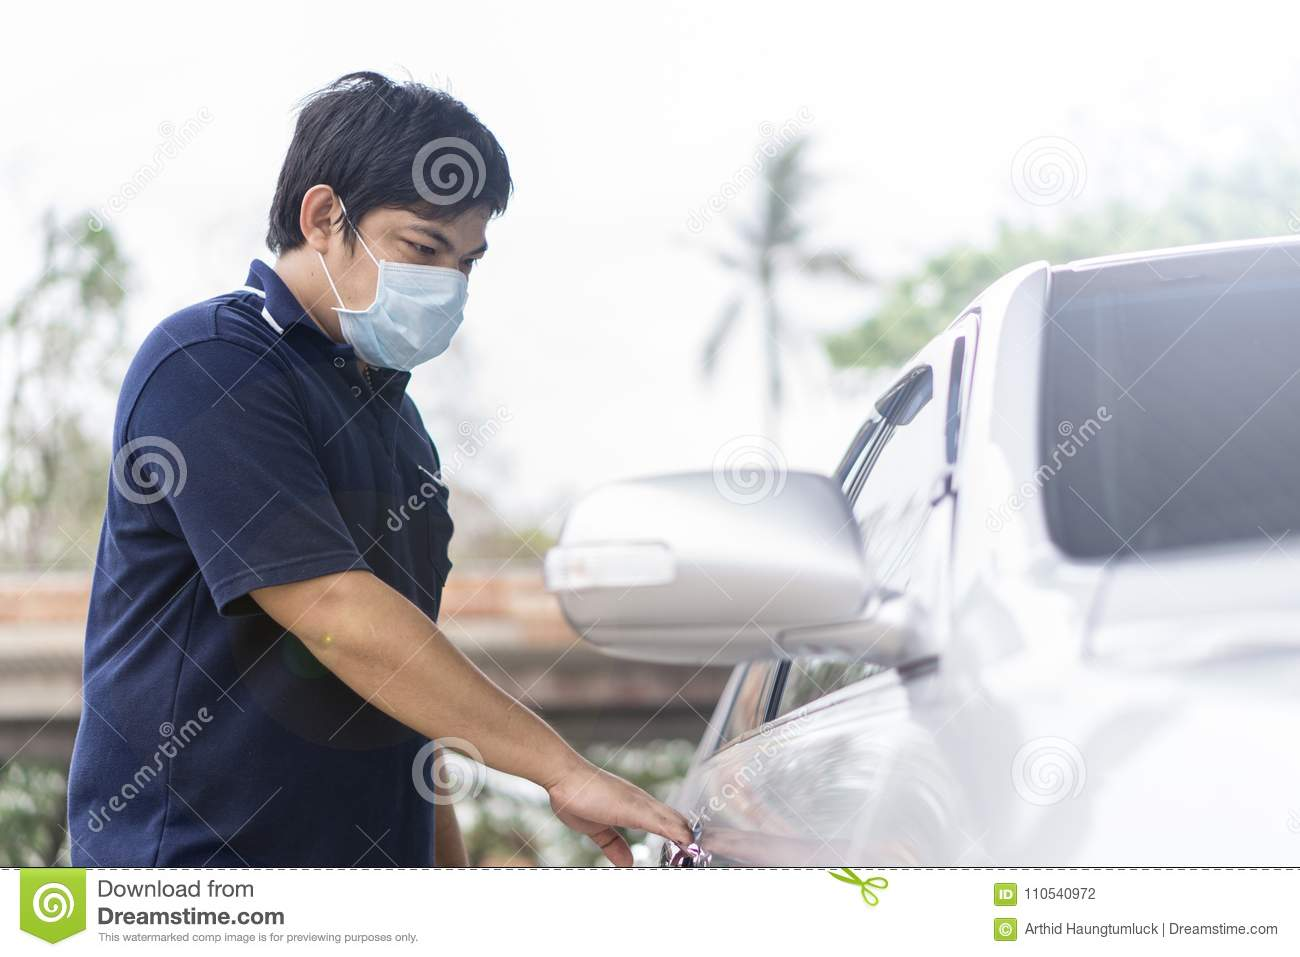mask: (336, 260, 469, 369)
